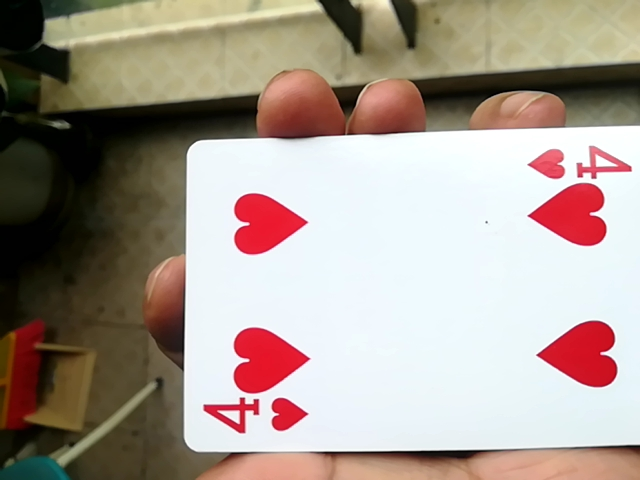hx 4: (176, 122, 636, 463)
